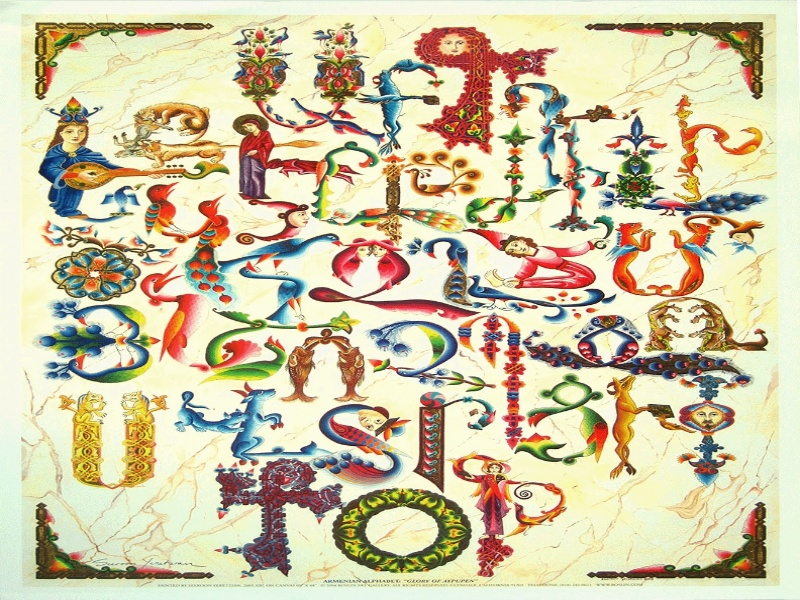letter: (330, 485, 475, 568), (53, 394, 173, 494), (314, 407, 409, 484)
